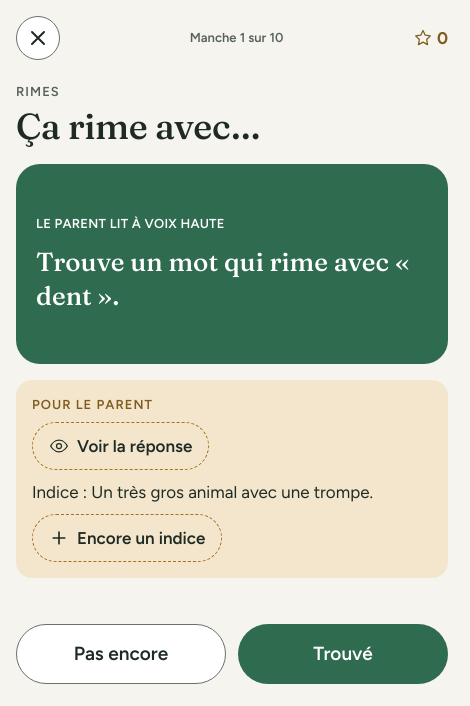
Ça rime avec…, en jeu › en Voiture : le parent lit, voit un exemple, puis les réponses acceptées
Expected: the text "maman" is not shown
Click the button "Voir la réponse" at (121, 446), box left=32, top=422, right=209, bottom=470
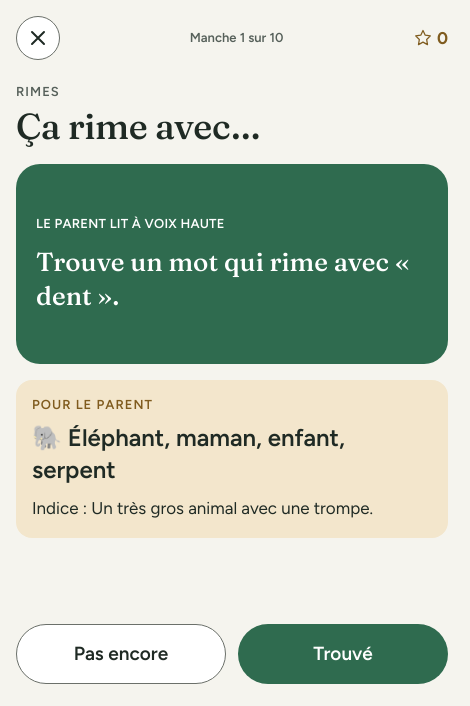
Now the text "🐘 Éléphant, maman, enfant, serpent" is shown, box left=32, top=423, right=345, bottom=484
Click the button "Trouvé" at (343, 654), box left=238, top=624, right=448, bottom=684
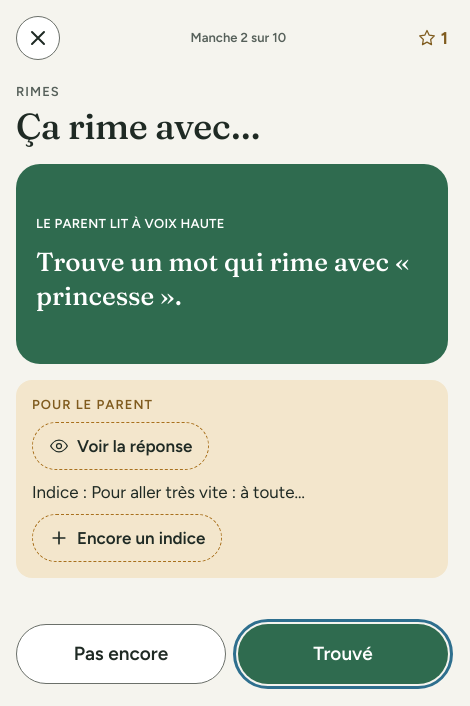
Now the text "Manche 2 sur 10" is shown, box left=191, top=29, right=286, bottom=47
